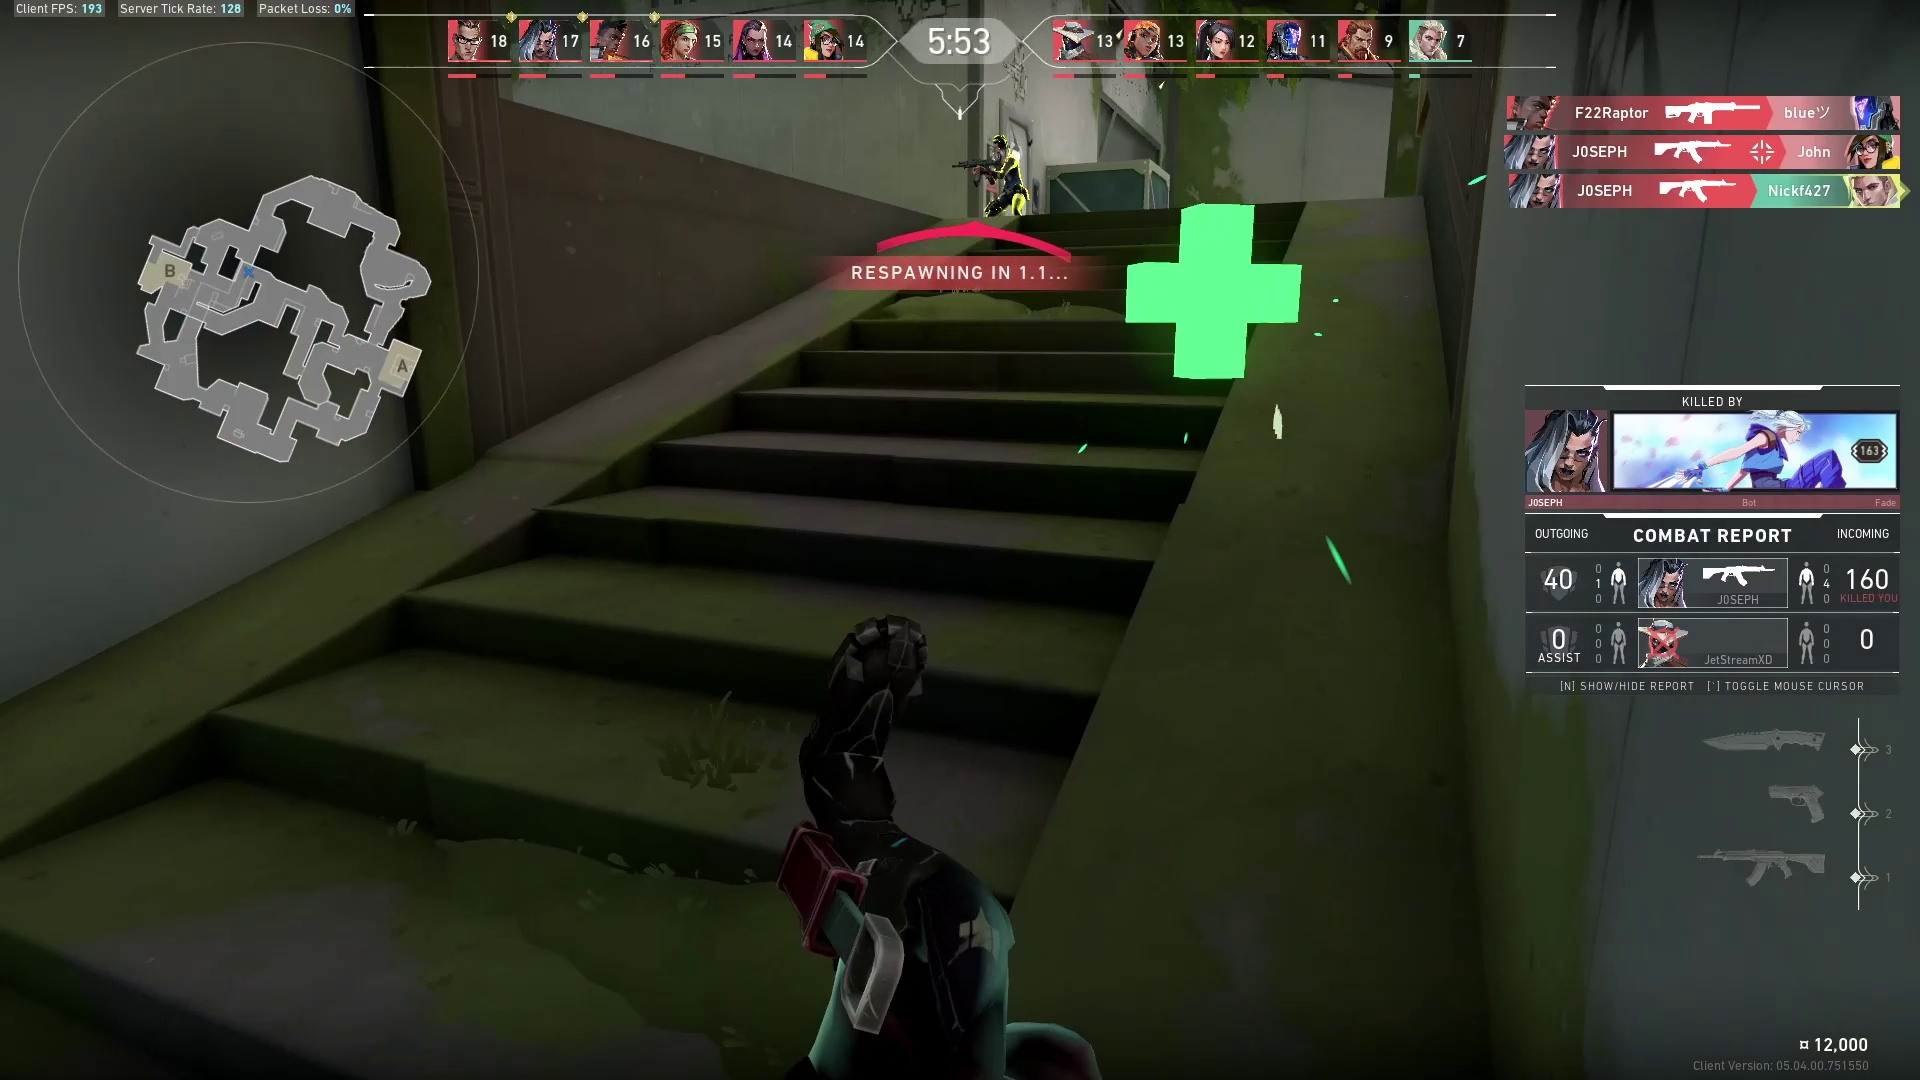enemy_body: (971, 156, 1034, 216)
enemy_head: (984, 127, 1014, 156)
